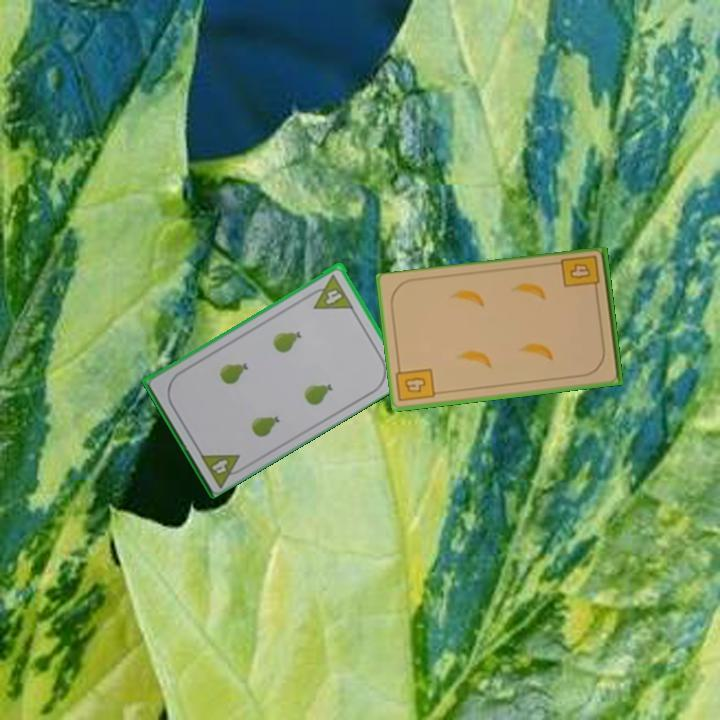4b: (558, 252, 603, 297), (394, 362, 438, 404)
4p: (196, 448, 250, 489), (304, 270, 356, 312)
